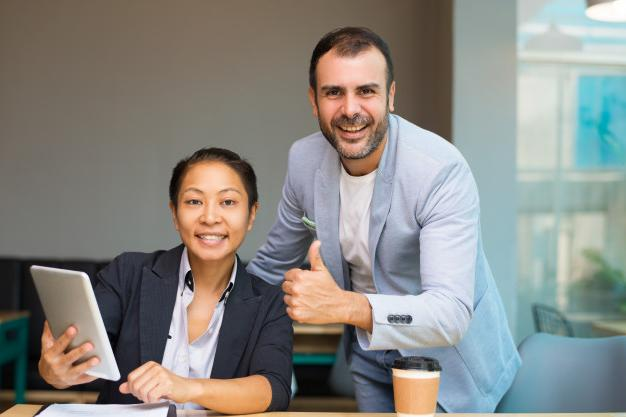thumbsup: (282, 240, 327, 325)
